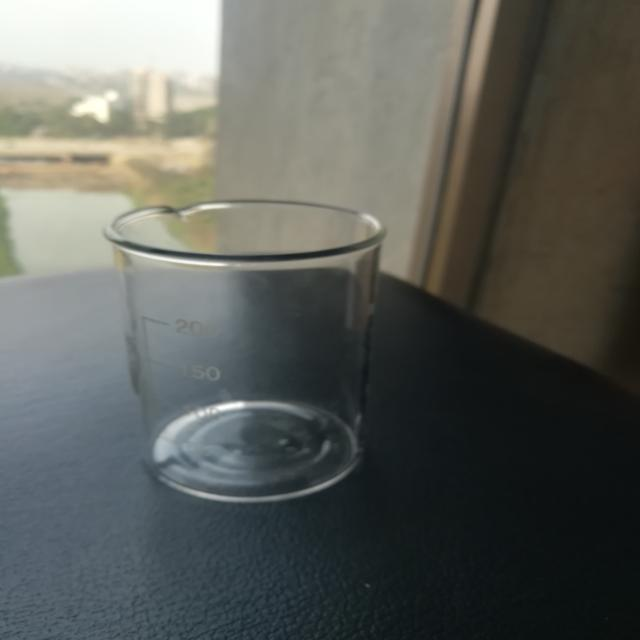Beaker: (84, 175, 444, 520)
